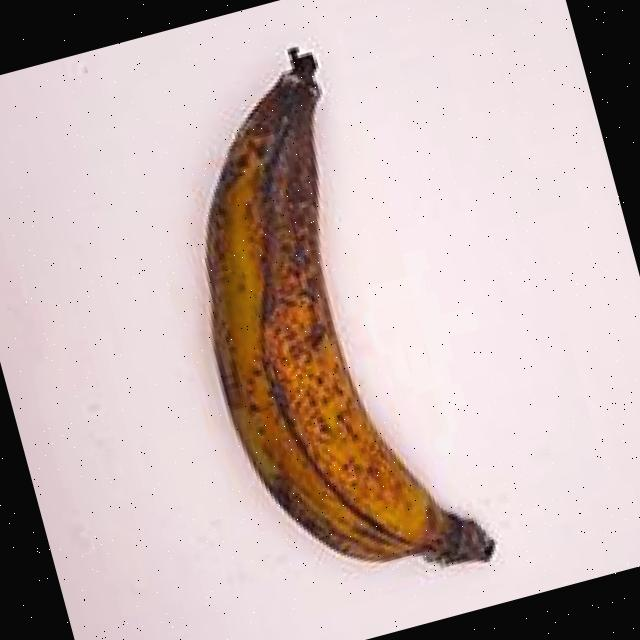Overripe: (84, 1, 544, 640)
